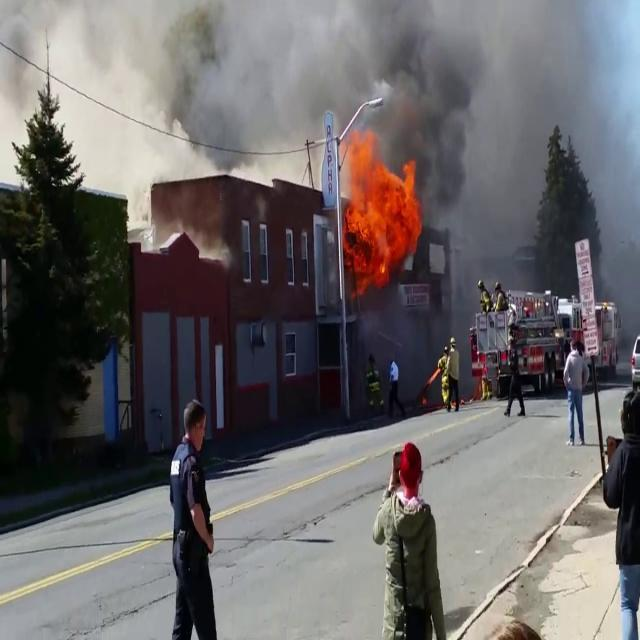Fire: (337, 133, 425, 284)
Smoke: (49, 1, 546, 151)
